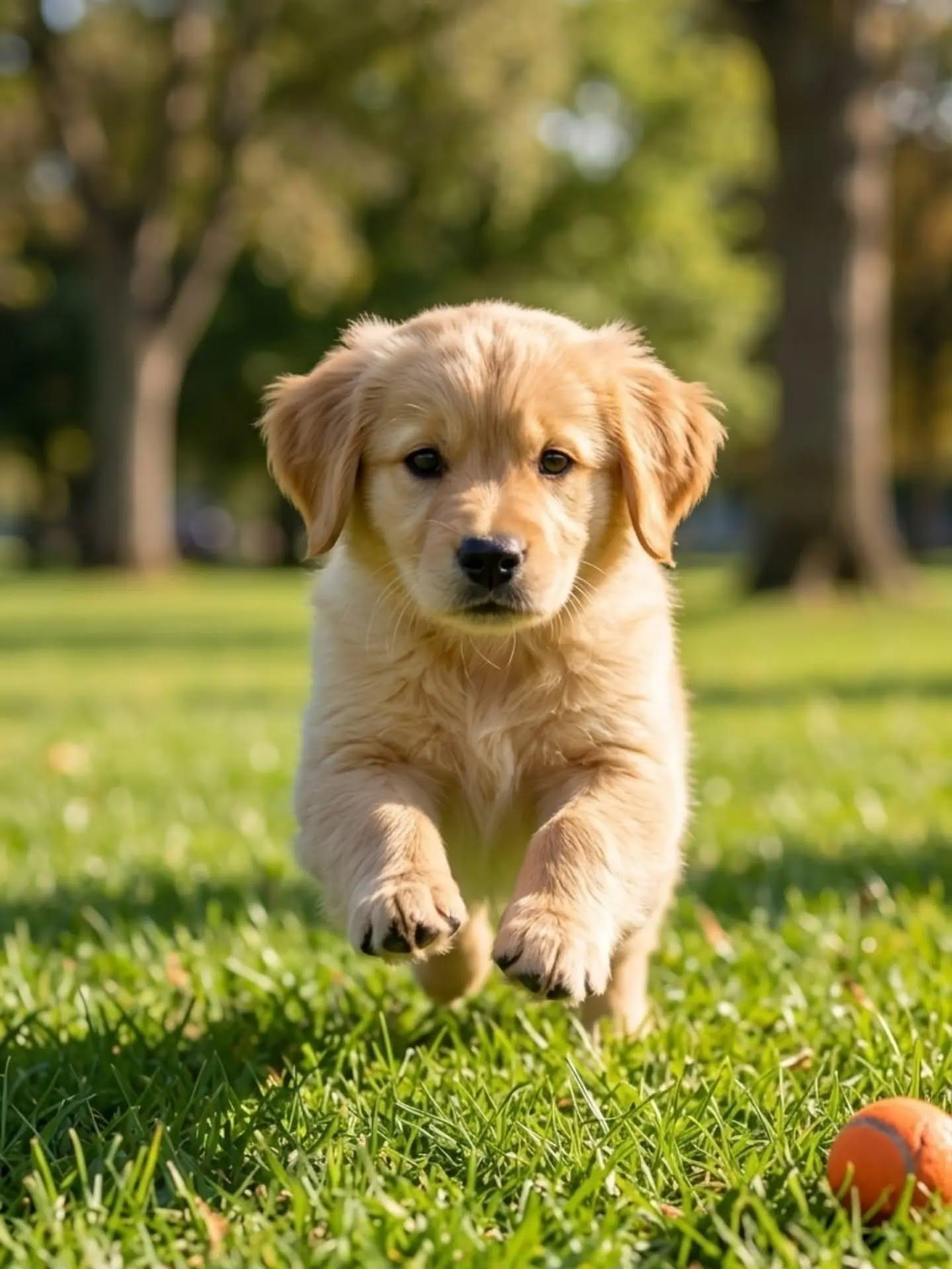non-dog: (823, 1093, 952, 1227)
puppy-dog: (255, 298, 731, 1046)
